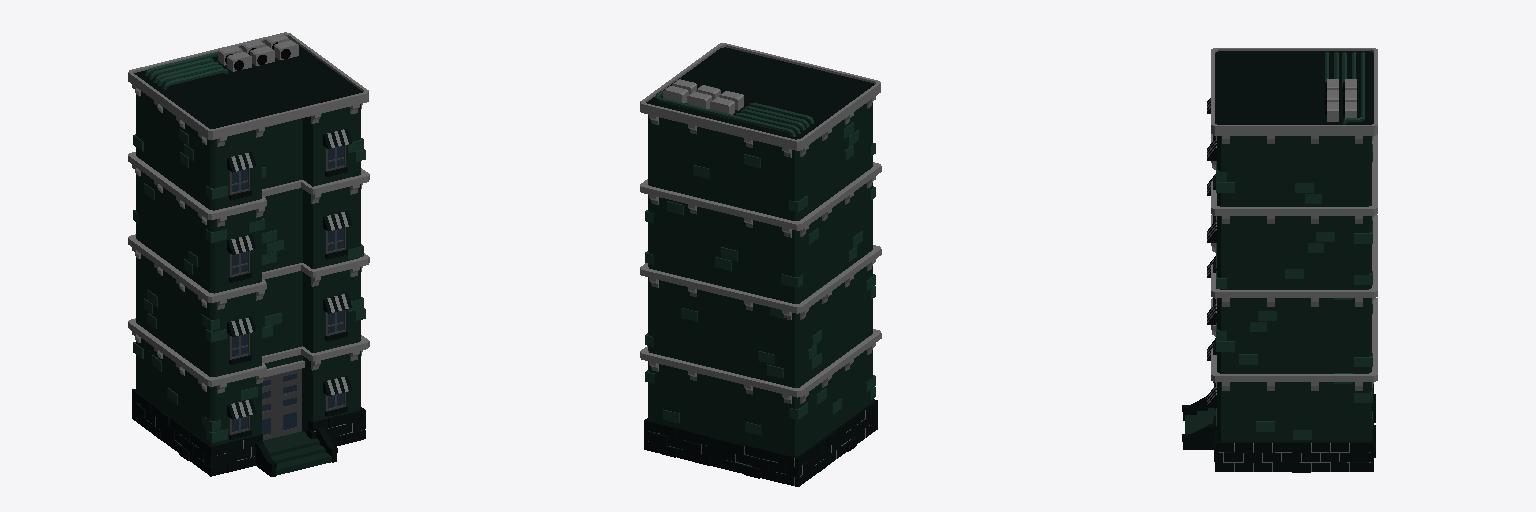
File: 4Story_Center_Mat.obj
The picture shows the model from 3 angles: view 1: azimuth 30°, elevation 25°; view 2: azimuth 150°, elevation 25°; view 3: azimuth 270°, elevation 25°; orthographic projection.
Parts seen in each view (by area): view 1: 4Story_Center_Mat_Cube.021; view 2: 4Story_Center_Mat_Cube.021; view 3: 4Story_Center_Mat_Cube.021.
Boxes of the visible parts, box(x1,y1,x2,y2) form: 4Story_Center_Mat_Cube.021: box(128, 32, 369, 476); 4Story_Center_Mat_Cube.021: box(640, 43, 881, 486); 4Story_Center_Mat_Cube.021: box(1182, 48, 1377, 472).
Bounding box in the file's own units: 2.42 × 5.09 × 2.53.